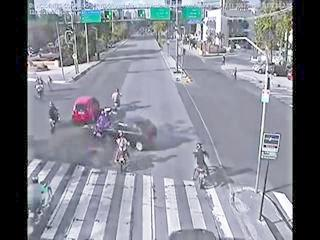Car: (103, 117, 158, 150), (72, 94, 99, 122)
Major Accident: (92, 107, 160, 153)
Motor: (28, 175, 52, 223), (92, 109, 115, 142), (193, 143, 210, 183), (114, 131, 130, 167), (48, 102, 60, 131), (111, 88, 122, 110), (35, 79, 44, 98)
